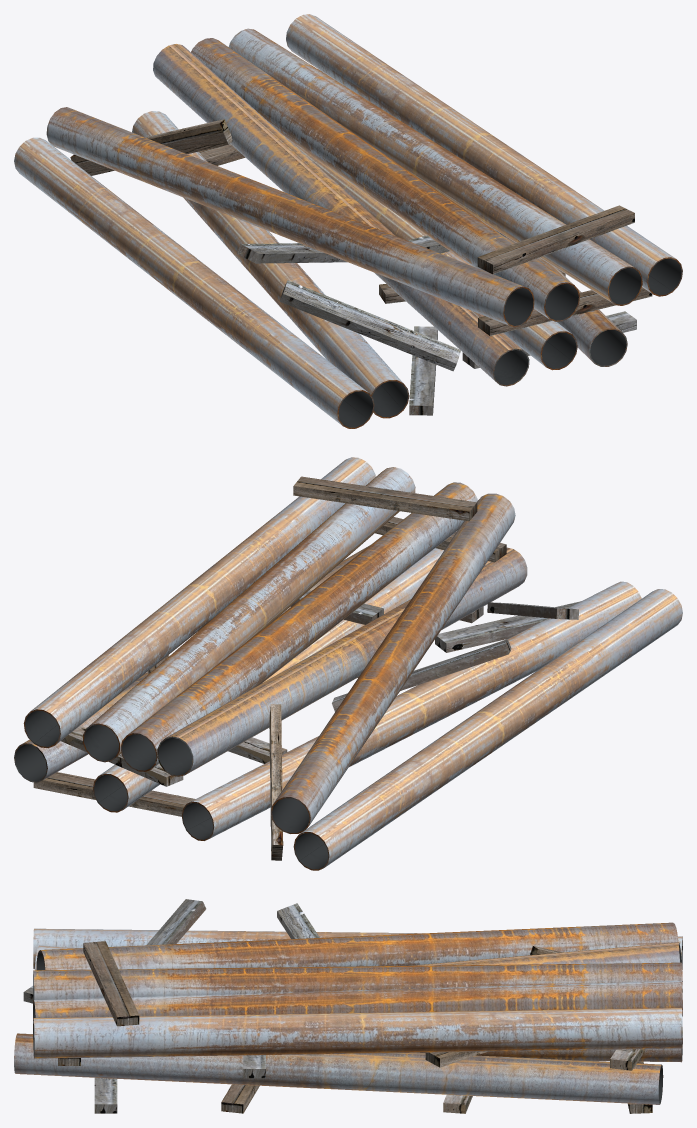
File: PipeGroupDebris.FBX
3 views of the same model, one above another, from view 1: azimuth 30°, elevation 25°; view 2: azimuth 150°, elevation 25°; view 3: azimuth 270°, elevation 25° (orthographic). The views are drawn at different scales.
Parts seen in each view (by area): view 1: PipeGroupDebris; view 2: PipeGroupDebris; view 3: PipeGroupDebris.
Boxes of the visible parts, box(x1,y1,x2,y2) form: PipeGroupDebris: box(14, 14, 682, 428); PipeGroupDebris: box(14, 457, 682, 870); PipeGroupDebris: box(14, 899, 682, 1113).
Bounding box in the file's own units: 114 × 33.97 × 195.
